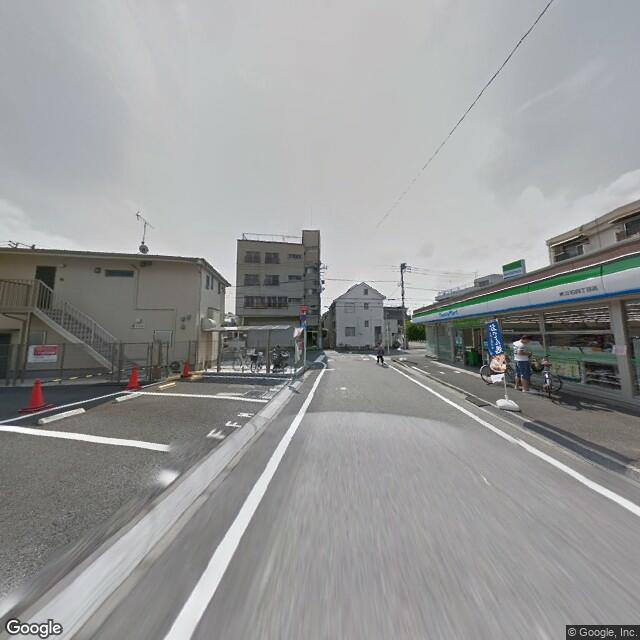family_mart: (413, 250, 639, 327)
